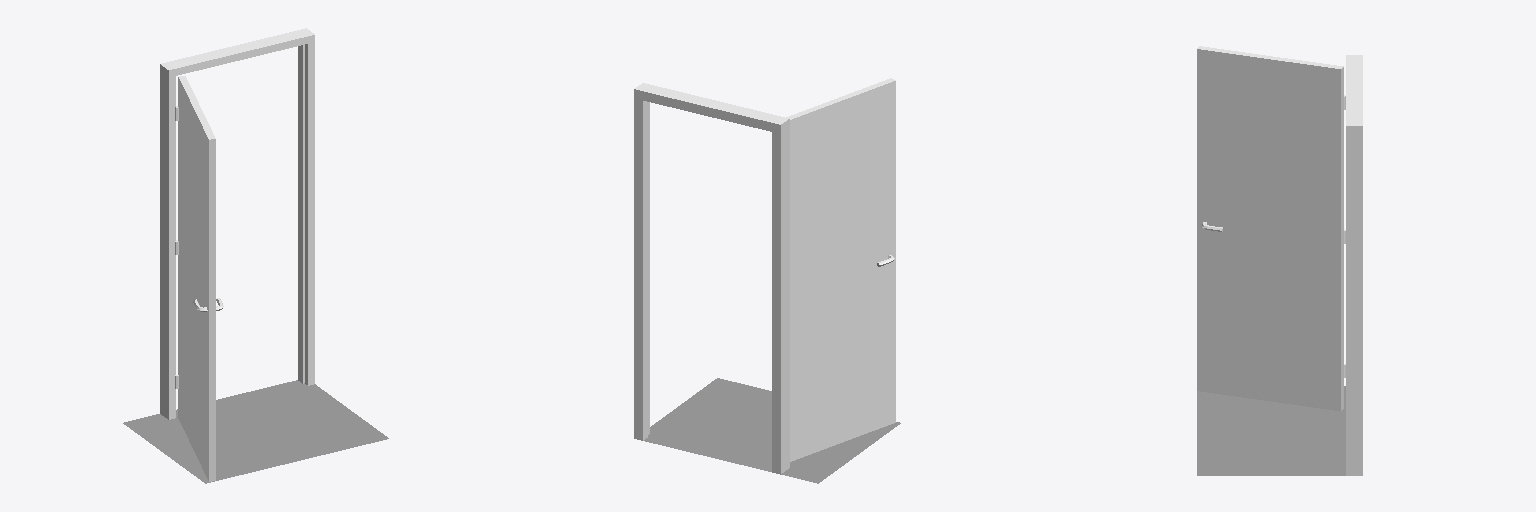
File: porta_aberta.obj
3 renders of one model, left to right at view 1: azimuth 30°, elevation 25°; view 2: azimuth 150°, elevation 25°; view 3: azimuth 270°, elevation 25°, orthographic.
Parts seen in each view (by area): view 1: frame_2, sweethome3d_opening_on_hinge_1_door_10, ground_1; view 2: sweethome3d_opening_on_hinge_1_door_10, frame_2, ground_1; view 3: sweethome3d_opening_on_hinge_1_door_10, ground_1, frame_2.
Part boxes in pixels (bbox=[...]): frame_2: bbox=[160, 28, 314, 419]; sweethome3d_opening_on_hinge_1_door_10: bbox=[178, 76, 215, 481]; ground_1: bbox=[123, 380, 388, 483]; sweethome3d_opening_on_hinge_1_door_10: bbox=[786, 78, 895, 461]; frame_2: bbox=[634, 83, 789, 474]; ground_1: bbox=[644, 378, 900, 483]; sweethome3d_opening_on_hinge_1_door_10: bbox=[1197, 46, 1343, 410]; ground_1: bbox=[1197, 386, 1345, 475]; frame_2: bbox=[1346, 55, 1362, 475].
Size of the model in its own units: 115 by 208 by 90.02.